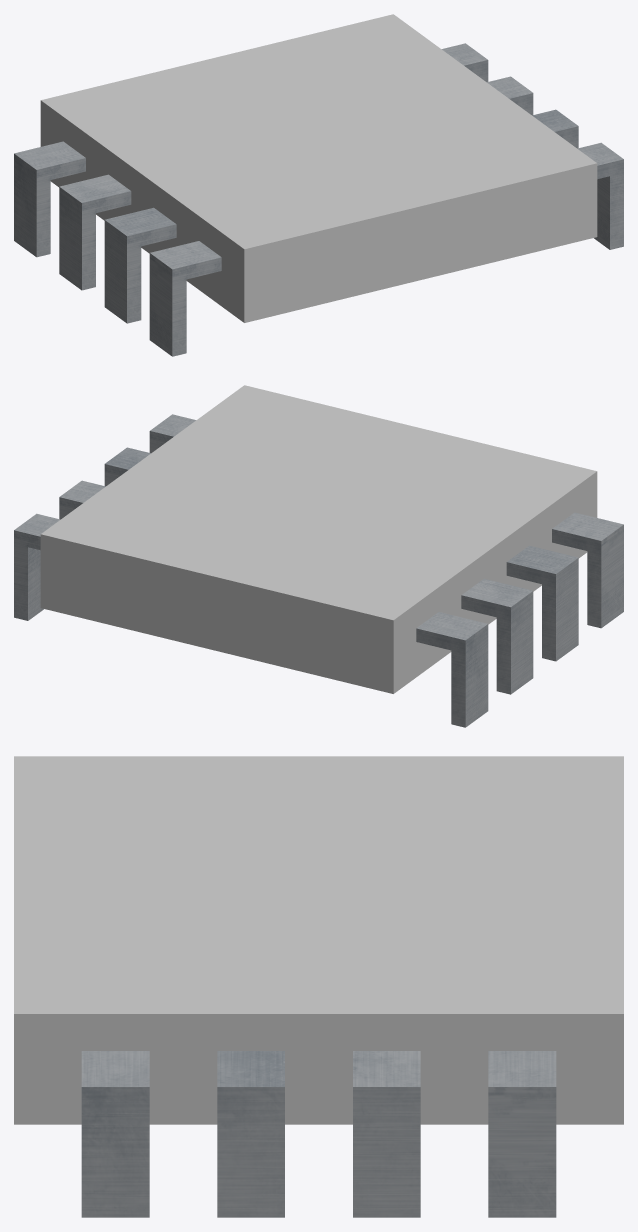
The model's file is Chip-8-Pin.obj.
3 renders of one model, top to bottom at view 1: azimuth 30°, elevation 25°; view 2: azimuth 150°, elevation 25°; view 3: azimuth 270°, elevation 25°, orthographic. The views are drawn at different scales.
Visible parts, largest first — view 1: Chip-8-Pin; view 2: Chip-8-Pin; view 3: Chip-8-Pin.
Part boxes in pixels (x1,y1,x2,y2): Chip-8-Pin: [14, 14, 623, 356]; Chip-8-Pin: [14, 385, 623, 727]; Chip-8-Pin: [14, 756, 623, 1217].
Bounding box in the file's own units: 0.64 × 0.1517 × 0.5.
